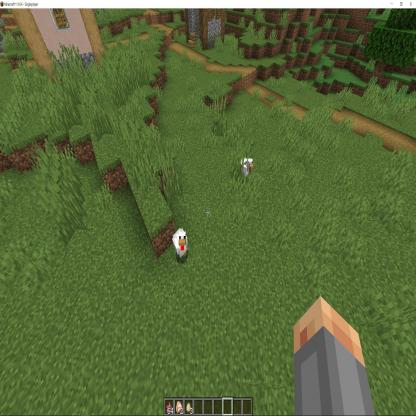minecraft-pigs: (171, 226, 192, 263), (238, 153, 254, 185)
